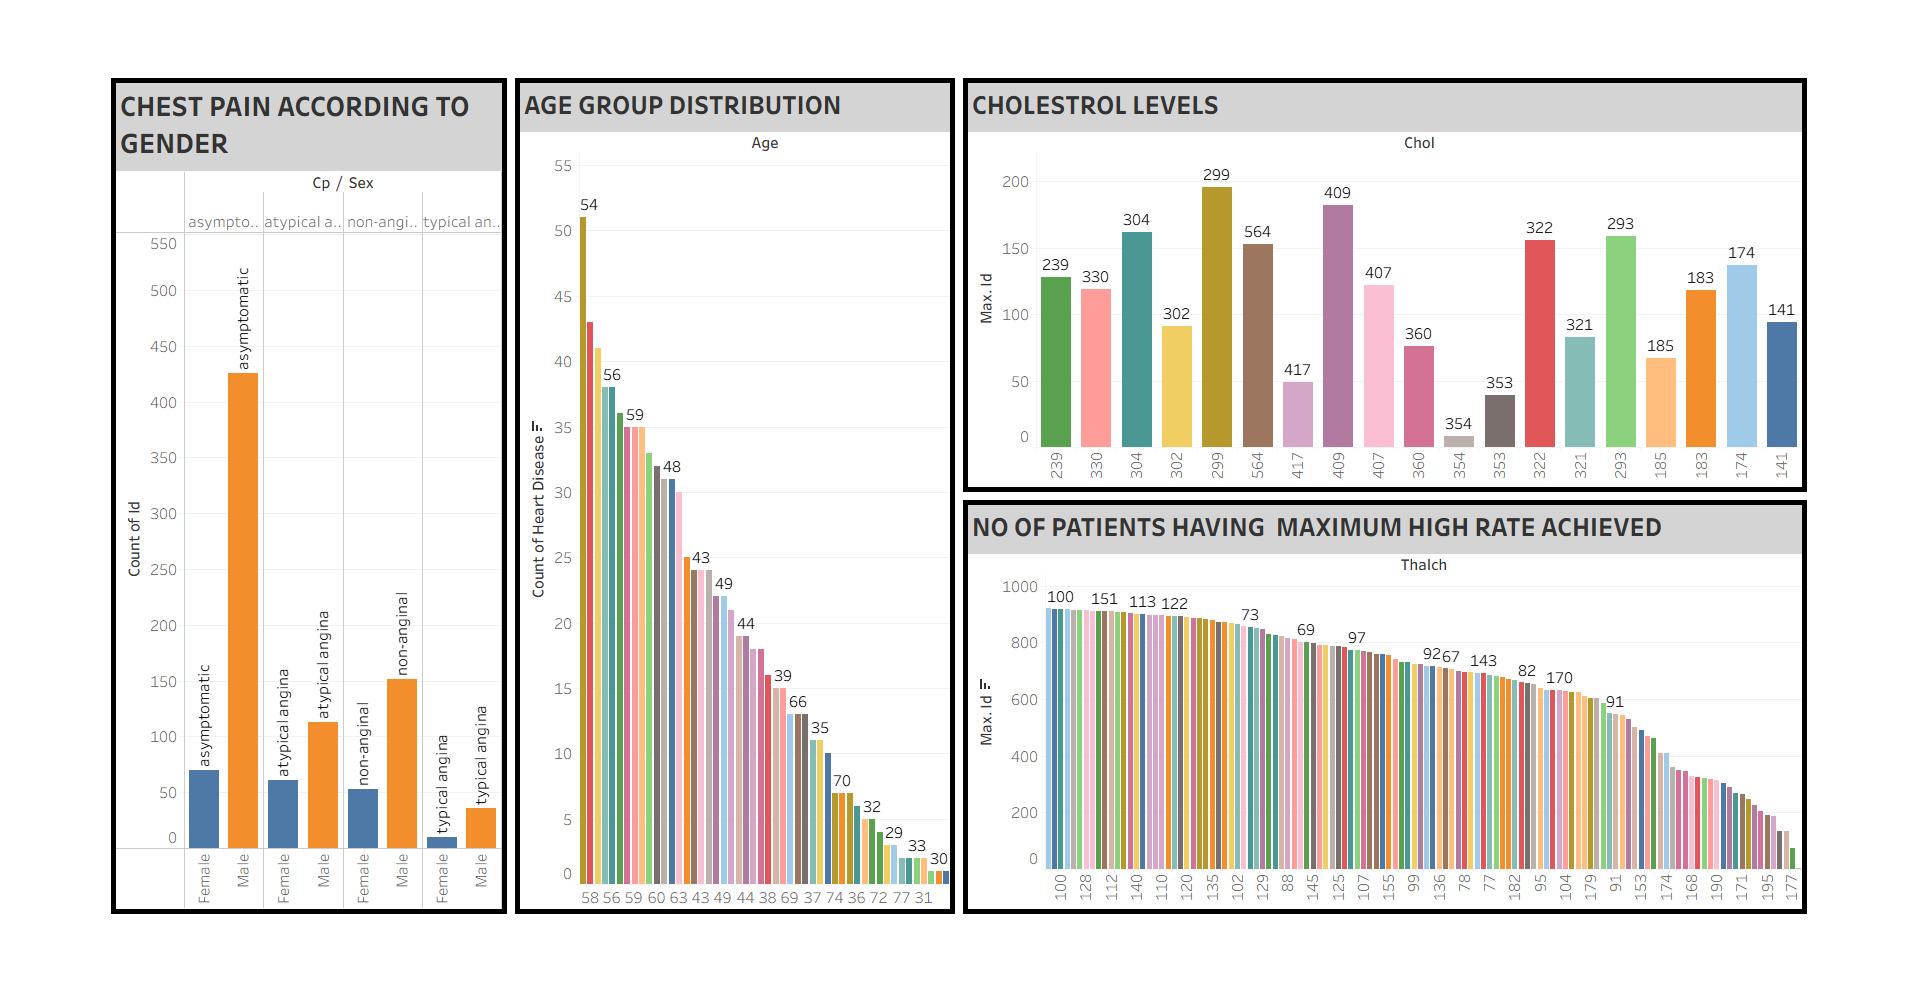

This screenshot's page, from the dashboard's own definition file:
{"tool":"tableau","page":{"name":"Dashboard 1","canvas":[1000,1000],"units":"permille","ordinal":0},"visuals":[{"type":"worksheet","title":"Sheet 2","mark":"Automatic","rows":["id"],"cols":["cp","sex"],"box":[4.7,10.2,234.9,979.6]},{"type":"worksheet","title":"Sheet 1","mark":"Automatic","rows":["Calculation_501025498123378688"],"cols":["age"],"box":[239.5,10.2,260.5,979.6]},{"type":"worksheet","title":"Sheet 3","mark":"Automatic","rows":["id"],"cols":["chol"],"box":[500,10.2,495.4,489.7]},{"type":"worksheet","title":"Sheet 4","mark":"Automatic","rows":["id"],"cols":["thalch"],"box":[500,499.9,495.4,489.9]}]}

Visuals, with their boxes on the dashboard's canvas, which has no fixed pixel size, in thousandths of its width and height (x1, y1, x2, y2). These are canvas units, not pixel positions in the 1918x991 screenshot, which may show the page scaled, cropped or inside an application window:
"Sheet 2" worksheet: box(5, 10, 240, 990)
"Sheet 1" worksheet: box(240, 10, 500, 990)
"Sheet 3" worksheet: box(500, 10, 995, 500)
"Sheet 4" worksheet: box(500, 500, 995, 990)
